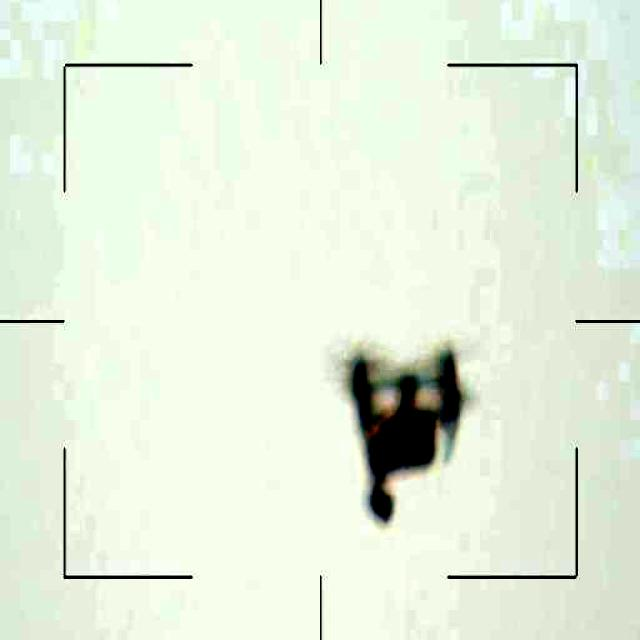bird: (330, 331, 481, 522)
